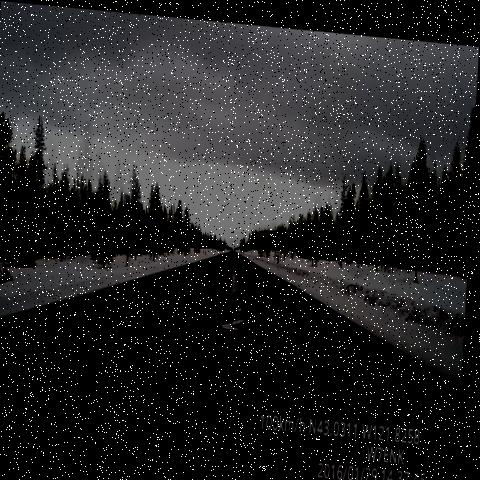pothole: (207, 326, 250, 380), (222, 287, 251, 330)
